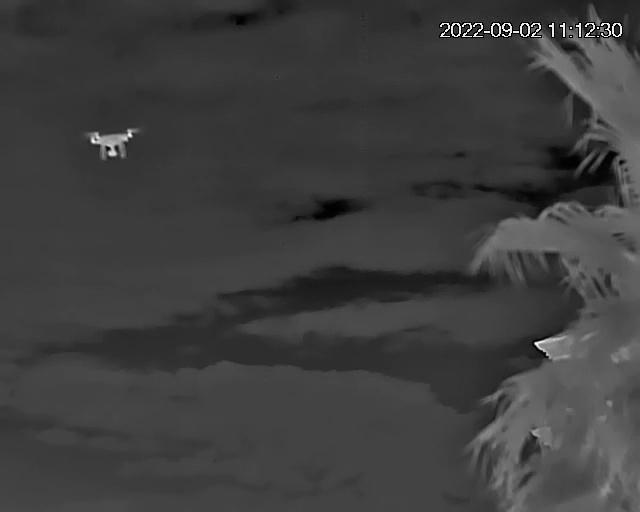DJI-Phantom: (82, 125, 145, 164)
